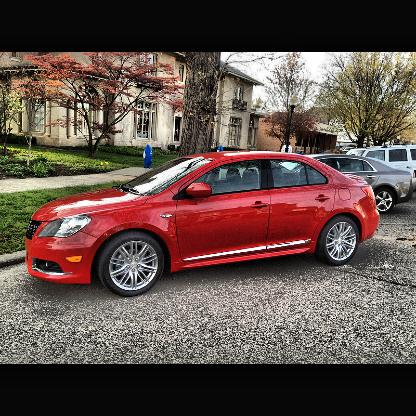Suzuki Kizashi Sedan 2012: (23, 151, 385, 298)
